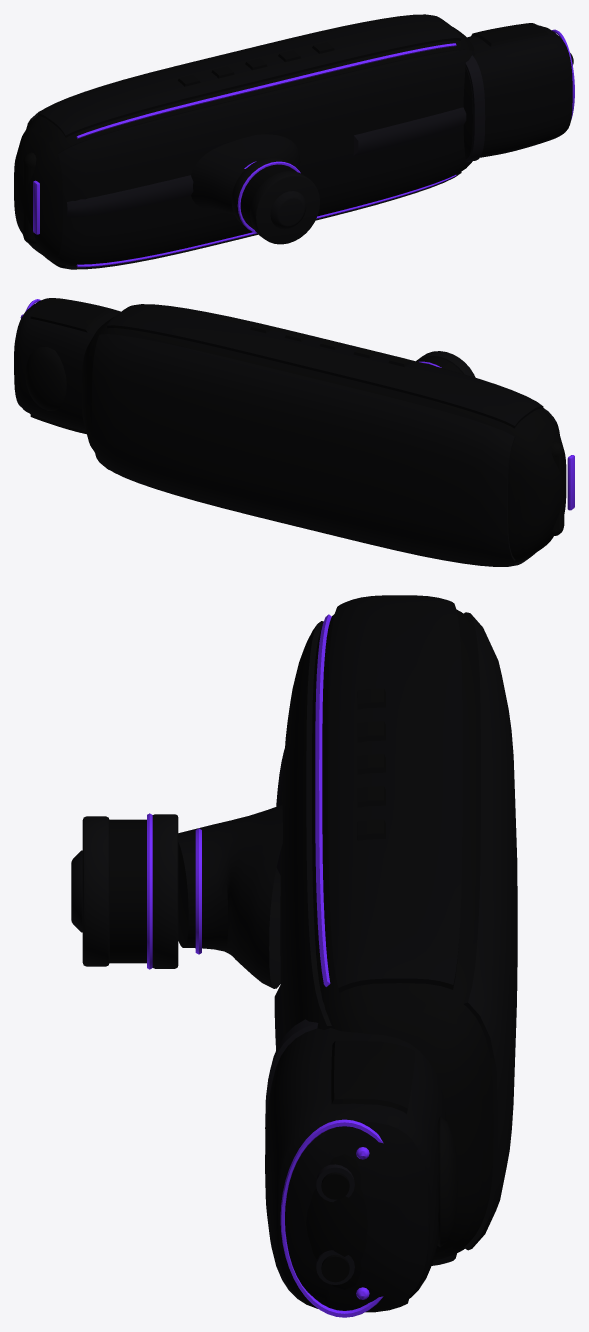
3 views of the same model, one above another, from view 1: azimuth 30°, elevation 25°; view 2: azimuth 150°, elevation 25°; view 3: azimuth 270°, elevation 25° (orthographic). The views are drawn at different scales.
Visible parts, largest first — view 1: base; view 2: base; view 3: base.
Boxes of the visible parts, left/top/right/bottom form: base: left=14, top=14, right=574, bottom=269; base: left=14, top=298, right=574, bottom=566; base: left=71, top=595, right=517, bottom=1317.
Size of the model in its own units: 0.542 by 0.165 by 0.196.
